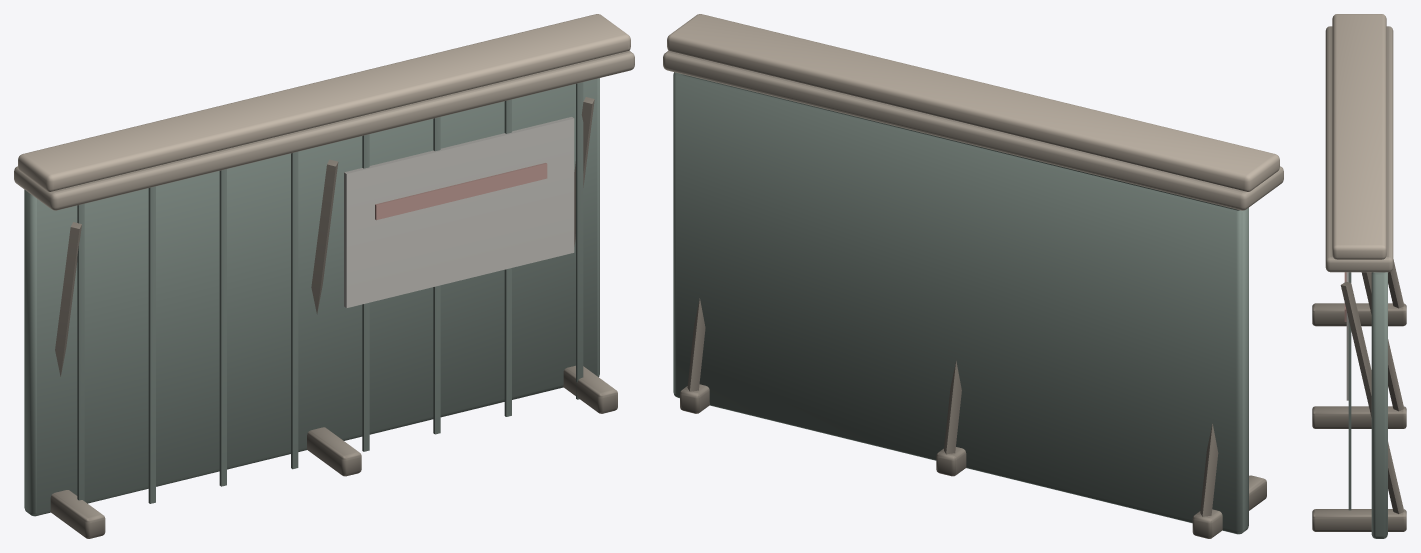
File: hoarding.glb
3 renders of one model, left to right at view 1: azimuth 30°, elevation 25°; view 2: azimuth 150°, elevation 25°; view 3: azimuth 270°, elevation 25°, orthographic. The views are drawn at different scales.
Bounding box in the file's own units: 4.1 × 2.42 × 0.7.
